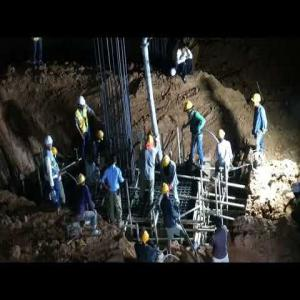none: (109, 154, 119, 169), (214, 217, 224, 231)
white: (42, 134, 55, 153), (76, 94, 87, 112)
yellow: (184, 100, 196, 117), (76, 172, 88, 188), (94, 129, 106, 145), (140, 229, 150, 246), (252, 93, 262, 109), (162, 156, 172, 172), (217, 129, 227, 143), (162, 184, 171, 199)
